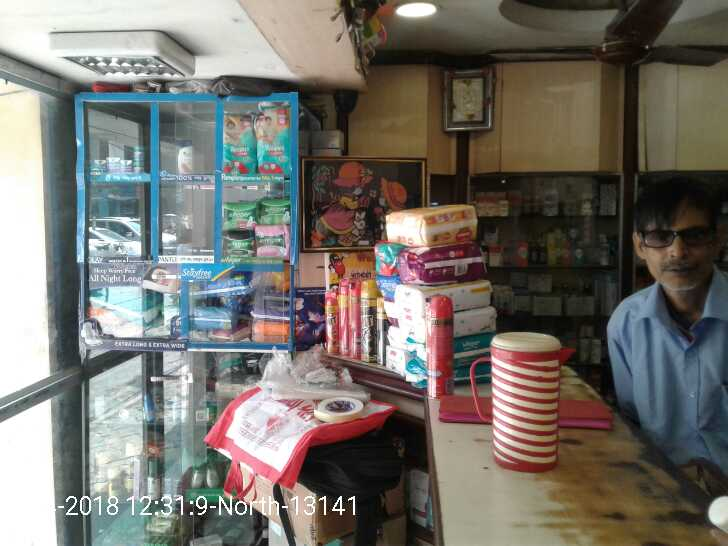vicks: (91, 141, 145, 173)
